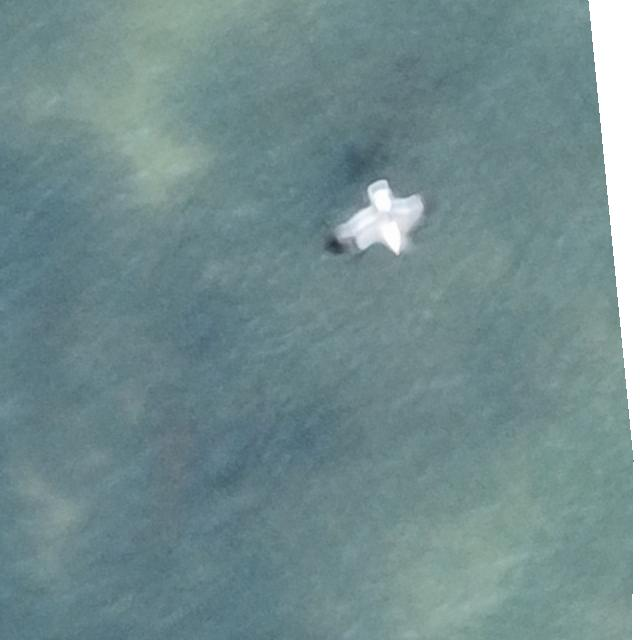F: (345, 186, 436, 252)
